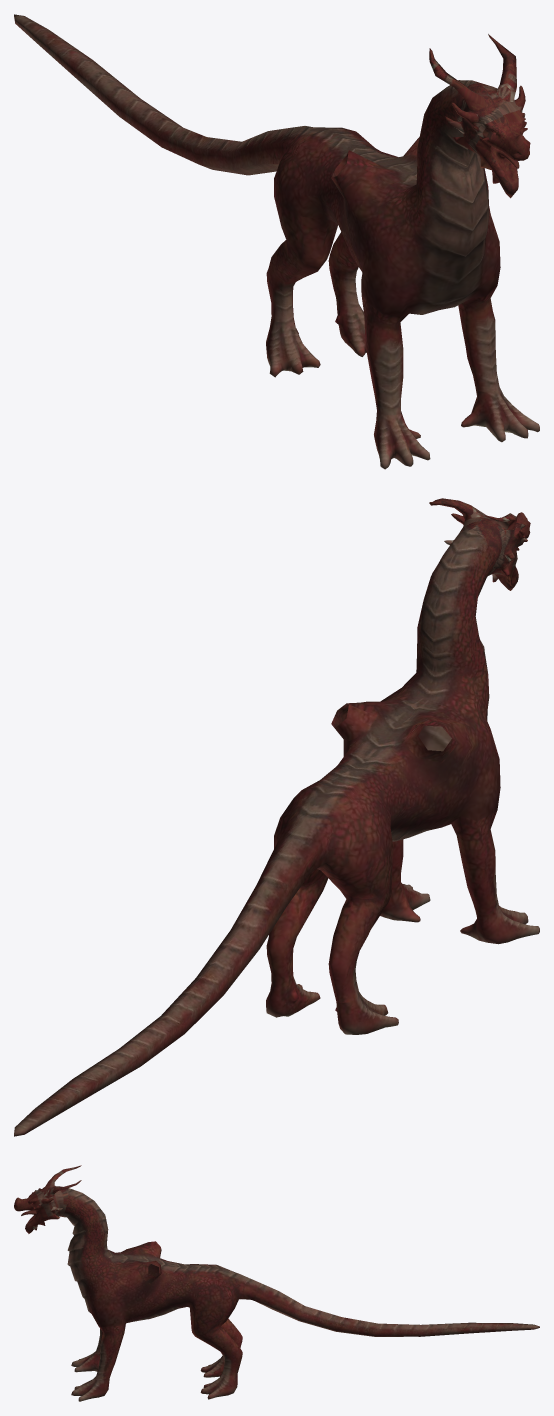
Rendered from dragon.obj.
The picture shows the model from 3 angles, top to bottom: view 1: azimuth 30°, elevation 25°; view 2: azimuth 150°, elevation 25°; view 3: azimuth 270°, elevation 25°; orthographic projection. The views are drawn at different scales.
Visible parts, largest first — view 1: Cylinder.026_Cylinder.044; view 2: Cylinder.026_Cylinder.044; view 3: Cylinder.026_Cylinder.044.
Boxes of the visible parts, box(x1,y1,x2,y2) form: Cylinder.026_Cylinder.044: box(14, 14, 539, 469); Cylinder.026_Cylinder.044: box(14, 498, 539, 1136); Cylinder.026_Cylinder.044: box(14, 1165, 539, 1401).
Size of the model in its own units: 7.38 by 18.36 by 41.31.
